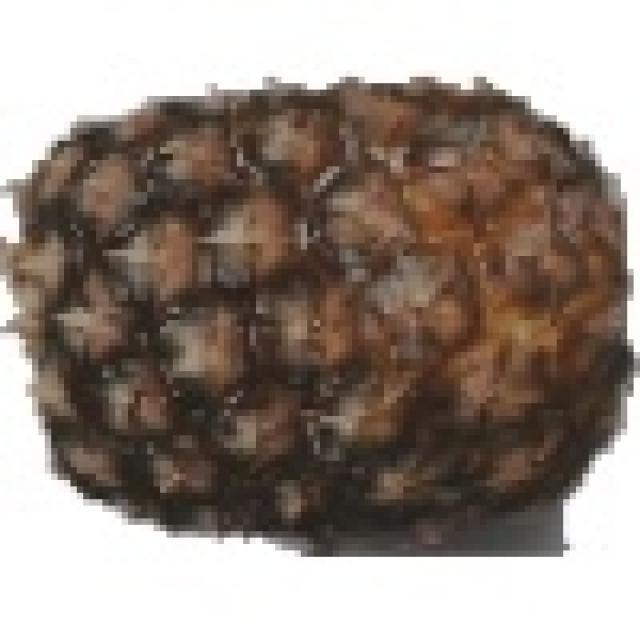pineapple: (6, 70, 614, 538)
